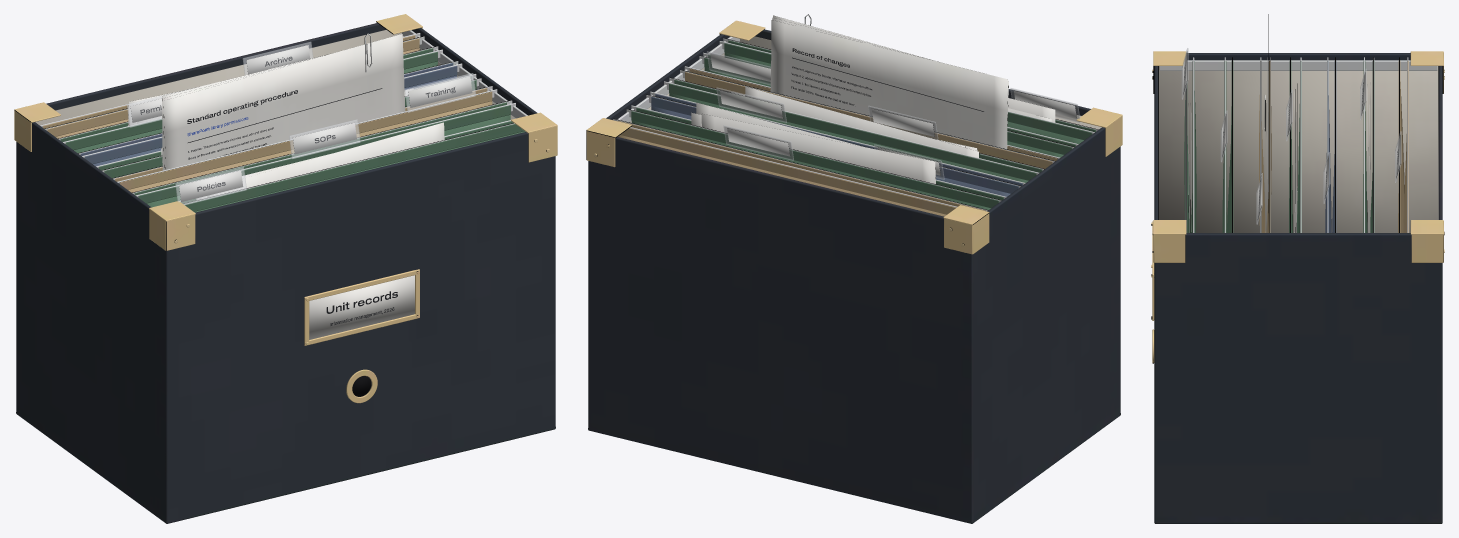
The model's file is filebox.glb.
3 views of the same model, side by side, from view 1: azimuth 30°, elevation 25°; view 2: azimuth 150°, elevation 25°; view 3: azimuth 270°, elevation 25° (orthographic). The views are drawn at different scales.
Parts seen in each view (by area): view 1: filebox_baked, document_baked, folder_1_baked, folder_3_baked, folder_2_baked, folder_6_baked, folder_7_baked, folder_5_baked, folder_2_glass, folder_3_glass, folder_1_glass, folder_4_baked (+4 smaller); view 2: filebox_baked, document_baked, folder_6_baked, folder_4_baked, folder_7_baked, folder_3_baked, folder_1_baked, folder_5_baked, folder_2_baked, folder_5_glass, folder_7_glass, folder_3_glass (+3 smaller); view 3: filebox_baked, folder_1_baked, folder_4_baked, folder_6_baked, folder_7_baked, folder_2_baked, folder_5_baked, folder_3_baked, document_baked.
Boxes of the visible parts, bbox=[...] form: filebox_baked: bbox=[14, 14, 557, 523]; document_baked: bbox=[162, 33, 405, 170]; folder_1_baked: bbox=[179, 120, 525, 212]; folder_3_baked: bbox=[112, 76, 497, 192]; folder_2_baked: bbox=[132, 100, 515, 207]; folder_6_baked: bbox=[58, 46, 442, 152]; folder_7_baked: bbox=[40, 33, 424, 138]; folder_5_baked: bbox=[78, 60, 462, 166]; folder_2_glass: bbox=[289, 119, 360, 158]; folder_3_glass: bbox=[404, 73, 476, 112]; folder_1_glass: bbox=[175, 167, 246, 205]; folder_4_baked: bbox=[96, 74, 481, 178]; filebox_baked: bbox=[586, 20, 1122, 523]; document_baked: bbox=[770, 14, 1008, 149]; folder_6_baked: bbox=[626, 102, 1006, 209]; folder_4_baked: bbox=[664, 77, 1044, 182]; folder_7_baked: bbox=[613, 118, 988, 216]; folder_3_baked: bbox=[680, 54, 1059, 168]; folder_1_baked: bbox=[719, 38, 1098, 144]; folder_5_baked: bbox=[646, 90, 1025, 196]; folder_2_baked: bbox=[699, 52, 1078, 157]; folder_5_glass: bbox=[716, 87, 786, 122]; folder_7_glass: bbox=[723, 125, 793, 160]; folder_3_glass: bbox=[707, 51, 770, 84]; filebox_baked: bbox=[1151, 51, 1444, 523]; folder_1_baked: bbox=[1183, 51, 1196, 232]; folder_4_baked: bbox=[1287, 57, 1301, 232]; folder_6_baked: bbox=[1361, 57, 1374, 232]; folder_7_baked: bbox=[1396, 57, 1408, 232]; folder_2_baked: bbox=[1222, 57, 1233, 232]; folder_5_baked: bbox=[1324, 57, 1336, 232]; folder_3_baked: bbox=[1257, 57, 1271, 232]; document_baked: bbox=[1264, 14, 1268, 232].
Bounding box in the file's own units: 0.3539 × 0.3331 × 0.2403.
Materials: 5 (1 with a texture image).
